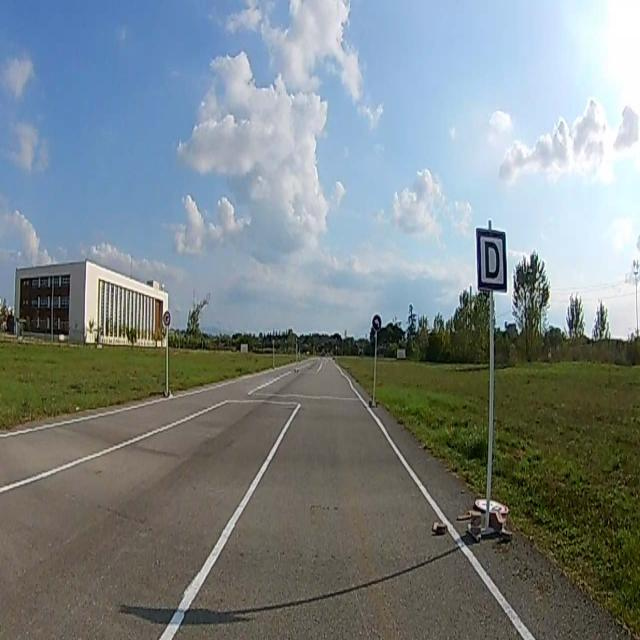durak: (479, 229, 508, 289)
